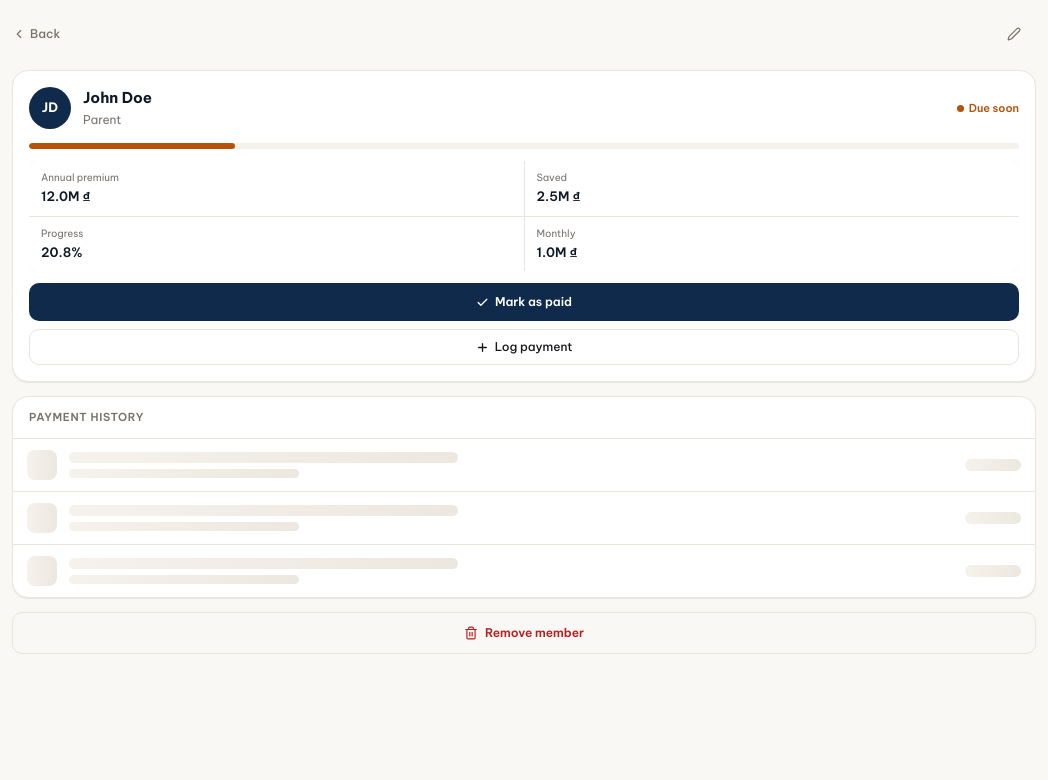
Scenario: DesktopInsuranceDetail — coverage round-trips through relationship › preselects the member’s coverage in the edit form and offers Parent/Other
The width and height of the screenshot is (1048, 780).
Expected: the text "Parent" is shown, [83,112,121,127]
Click the button with test id "insurance-edit-btn". click: (1014, 34)
box: [992,12,1036,56]
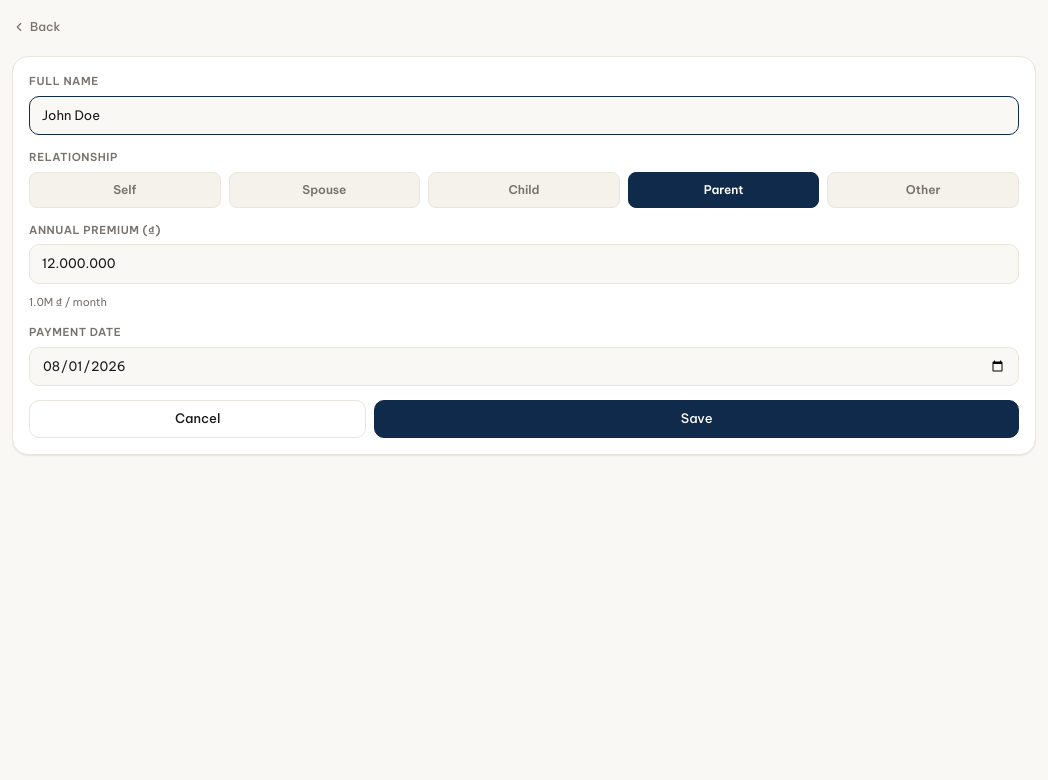
Expected: the button "Self" is shown, [29,172,221,208]
Expected: the button "Spouse" is shown, [229,172,420,208]
Expected: the button "Child" is shown, [428,172,620,208]
